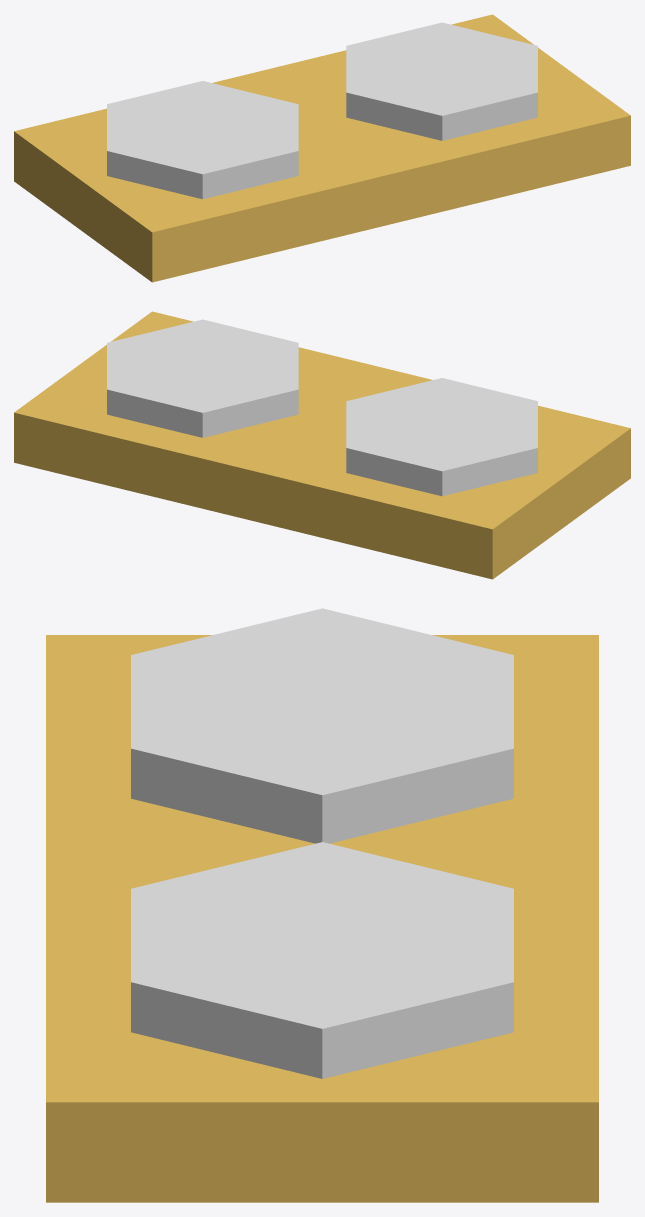
3 renders of one model, top to bottom at view 1: azimuth 30°, elevation 25°; view 2: azimuth 150°, elevation 25°; view 3: azimuth 270°, elevation 25°, orthographic. The views are drawn at different scales.
Visible parts, largest first — view 1: Box001, Cylinder001, Cylinder002; view 2: Box001, Cylinder001, Cylinder002; view 3: Box001, Cylinder001, Cylinder002.
Boxes of the visible parts, x1,y1,x2,y2 form: Box001: (14, 14, 630, 282); Cylinder001: (346, 22, 537, 140); Cylinder002: (107, 81, 298, 199); Box001: (14, 311, 630, 579); Cylinder001: (107, 319, 298, 437); Cylinder002: (346, 378, 537, 496); Box001: (46, 635, 598, 1202); Cylinder001: (131, 842, 513, 1078); Cylinder002: (131, 608, 513, 843).
Bounding box in the file's own units: 10 × 1.5 × 5.
